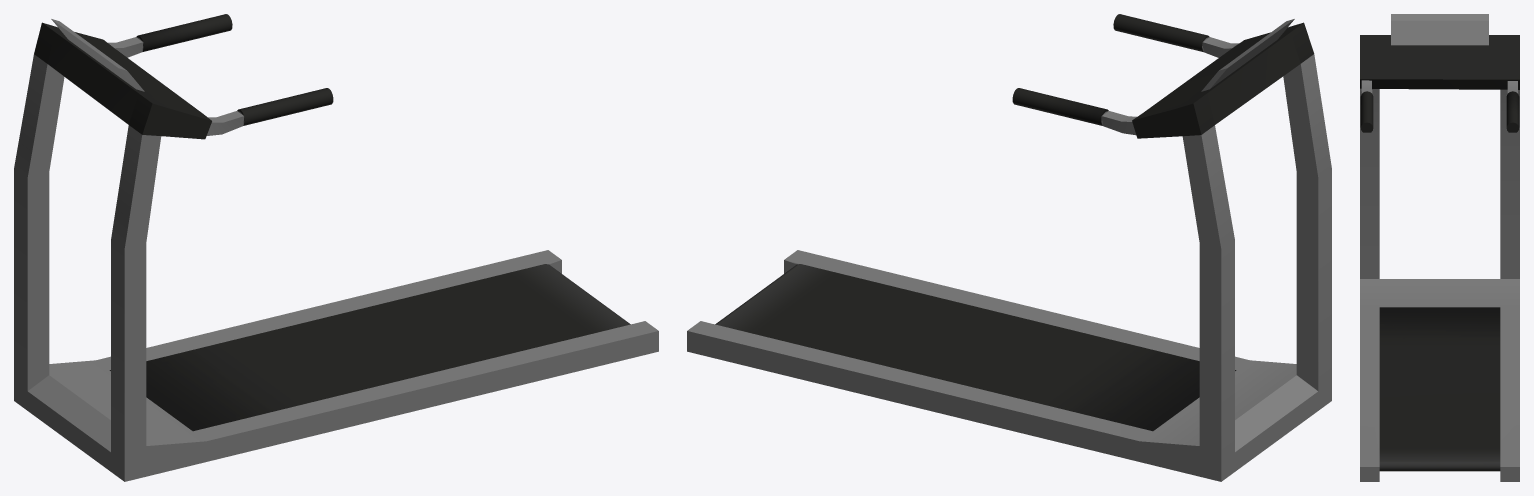
Rendered from treadmill.glb.
The picture shows the model from 3 angles, left to right: view 1: azimuth 30°, elevation 25°; view 2: azimuth 150°, elevation 25°; view 3: azimuth 270°, elevation 25°; orthographic projection. The views are drawn at different scales.
Parts seen in each view (by area): view 1: pCylinder2; view 2: pCylinder2; view 3: pCylinder2.
Boxes of the visible parts, x1,y1,x2,y2 form: pCylinder2: (14,14,658,481); pCylinder2: (687,14,1331,481); pCylinder2: (1360,14,1519,481).
Size of the model in its own units: 1.73 by 1.22 by 0.6208.
Materials: 1 (1 with a texture image).
